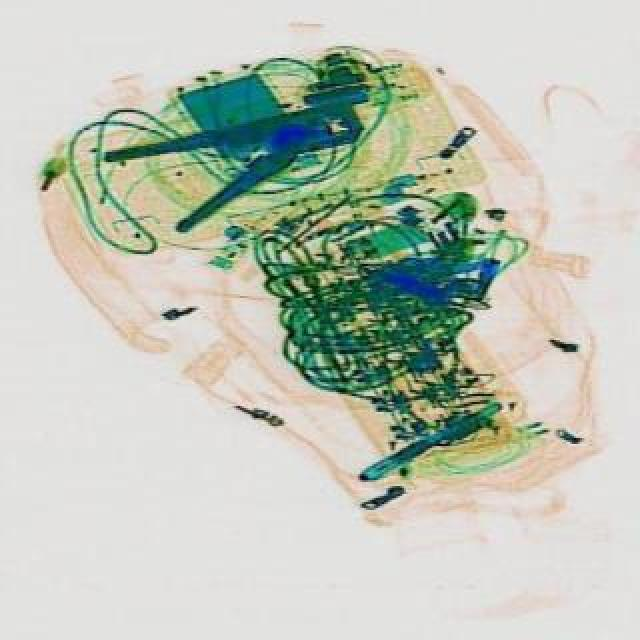wrench: (104, 74, 384, 254)
